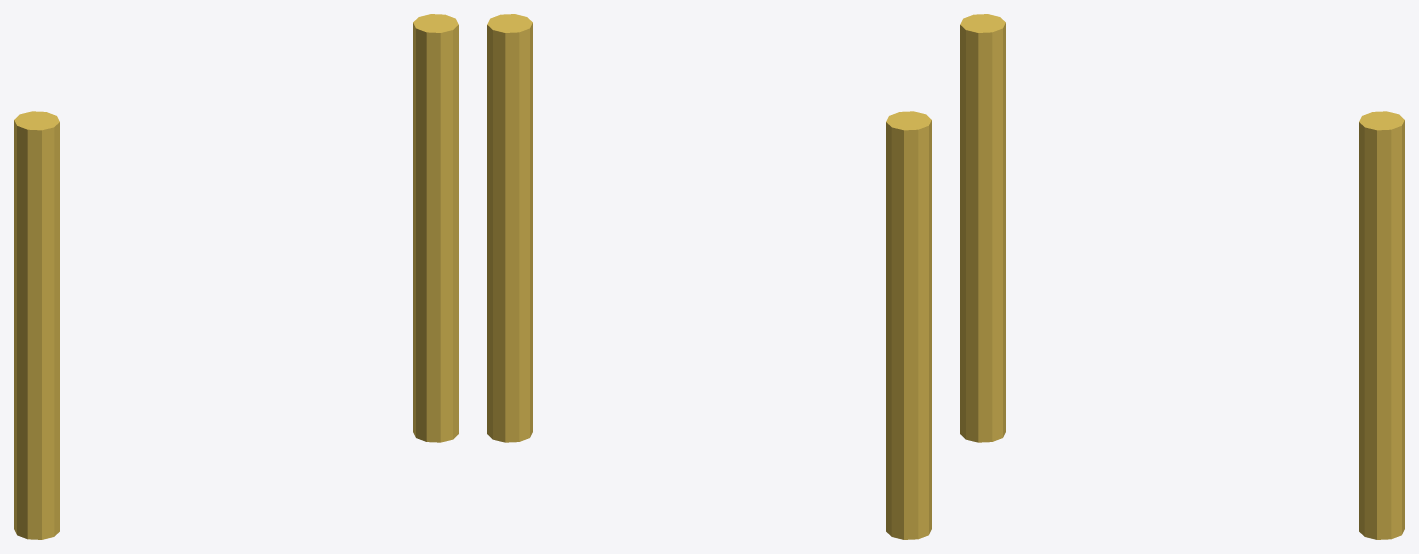
The model's file is GoalPole.fbx.
The picture shows the model from 3 angles, left to right: view 1: azimuth 30°, elevation 25°; view 2: azimuth 150°, elevation 25°; view 3: azimuth 330°, elevation 25°; orthographic projection.
Parts seen in each view (by area): view 1: pCylinder3; view 2: pCylinder3; view 3: pCylinder3.
Boxes of the visible parts, left/top/right/bottom form: pCylinder3: left=14, top=14, right=458, bottom=539; pCylinder3: left=487, top=14, right=931, bottom=539; pCylinder3: left=960, top=14, right=1404, bottom=539.
Size of the model in its own units: 11 by 9.81 by 0.9511.
